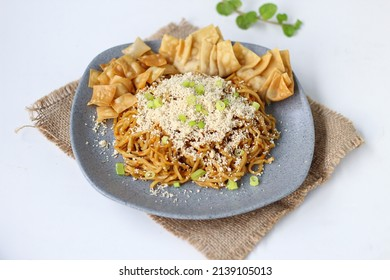Mie: (89, 83, 269, 192)
